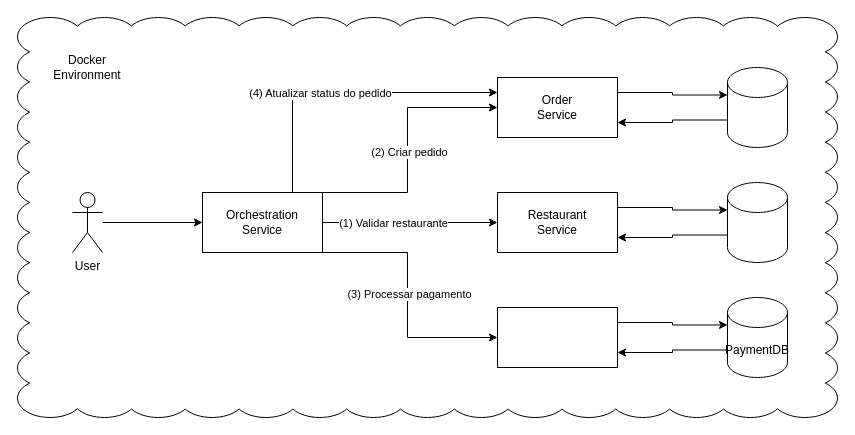
This 855x435 diagram has some shape labels left out. The centre of each missing label's shape, as x and y in pixels:
OrderDB: point 757,107
Payment Service: point 557,337
RestaurantDB: point 757,222
